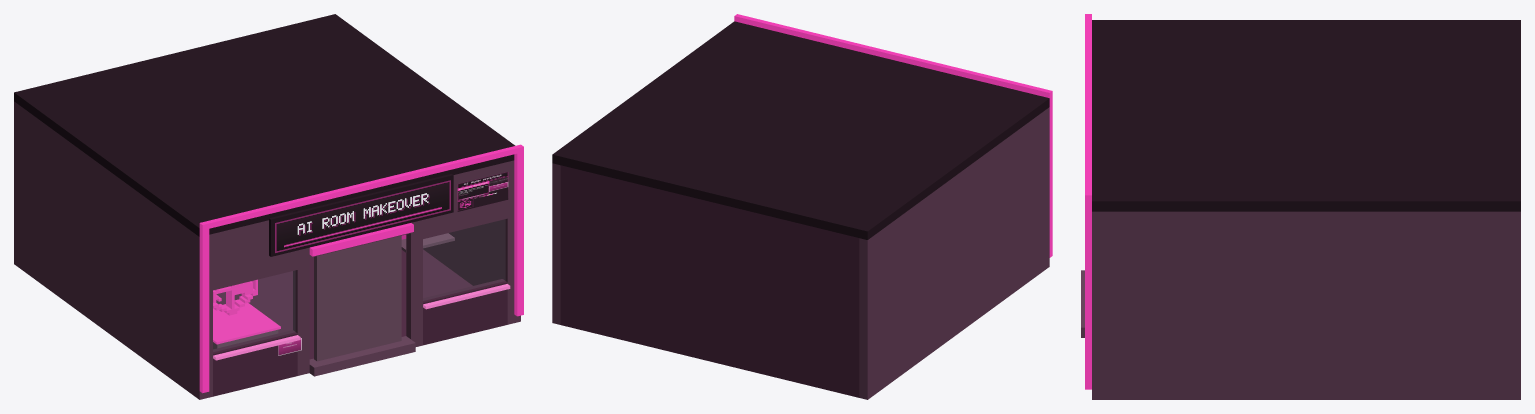
File: plot.glb
3 renders of one model, left to right at view 1: azimuth 30°, elevation 25°; view 2: azimuth 150°, elevation 25°; view 3: azimuth 270°, elevation 25°, orthographic. The views are drawn at different scales.
Visible parts, largest first — view 1: facade, neon, sign_1, door_panel_L, door_panel_R, pic_1, lintel, logo; view 2: facade, neon; view 3: facade, neon.
Boxes of the visible parts, x1,y1,x2,y2 form: facade: (14, 14, 520, 399); neon: (199, 144, 523, 393); sign_1: (275, 180, 450, 252); door_panel_L: (314, 246, 359, 361); door_panel_R: (359, 235, 401, 350); pic_1: (457, 172, 508, 211); lintel: (309, 223, 413, 256); logo: (213, 279, 257, 315); facade: (552, 21, 1049, 399); neon: (734, 14, 1052, 257); facade: (1081, 20, 1520, 399); neon: (1085, 14, 1091, 389).
Size of the model in its own units: 9.5 by 5 by 9.74.
4 materials, 3 textured.
